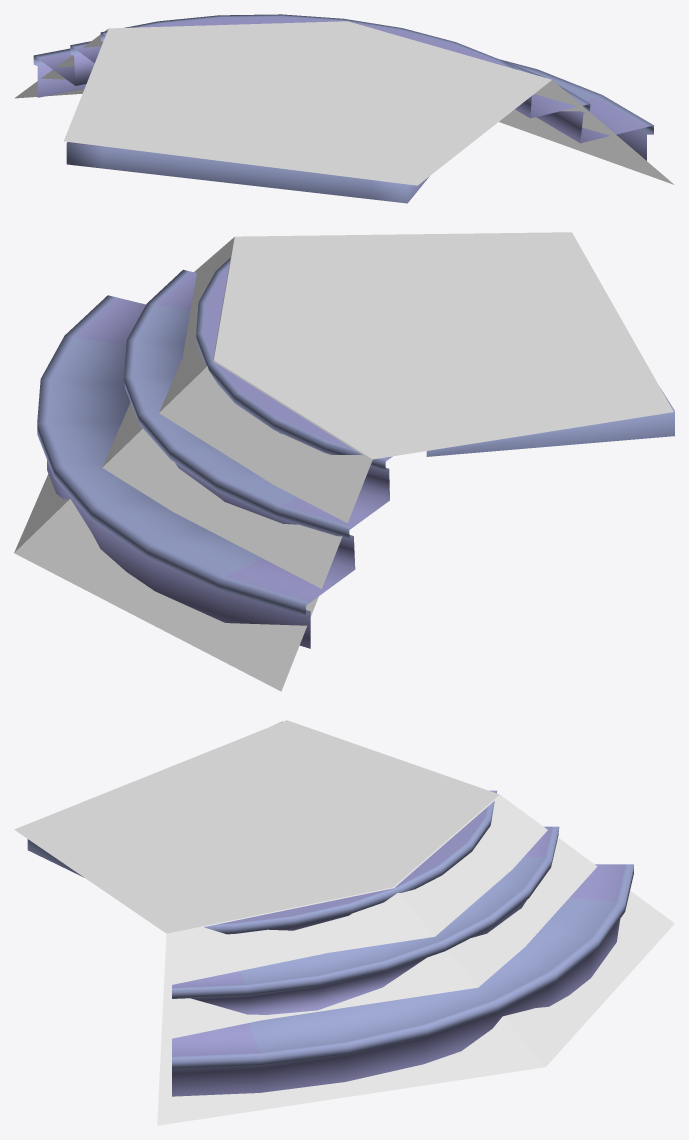
Rendered from Stairs_QuarterRound.fbx.
3 renders of one model, top to bottom at view 1: azimuth 30°, elevation 25°; view 2: azimuth 150°, elevation 25°; view 3: azimuth 270°, elevation 25°, orthographic. The views are drawn at different scales.
Parts seen in each view (by area): view 1: StairsHalfRoundColMesh, Stairs_Round; view 2: StairsHalfRoundColMesh, Stairs_Round; view 3: StairsHalfRoundColMesh, Stairs_Round.
Part boxes in pixels (x1,y1,x2,y2): StairsHalfRoundColMesh: (14, 21, 674, 185); Stairs_Round: (33, 14, 653, 203); StairsHalfRoundColMesh: (14, 232, 673, 691); Stairs_Round: (37, 258, 674, 648); StairsHalfRoundColMesh: (14, 720, 674, 1125); Stairs_Round: (27, 721, 633, 1096).
Bounding box in the file's own units: 399 × 91.07 × 409.
